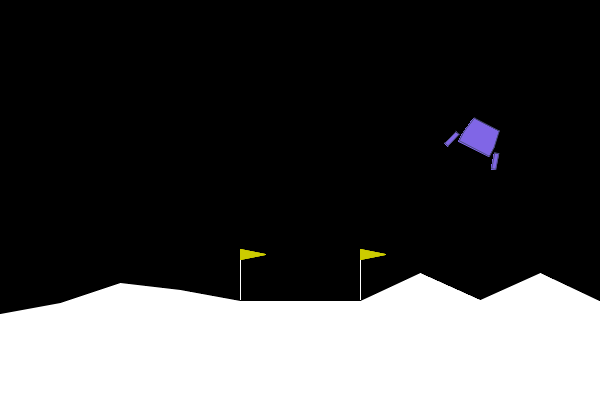lander: (442, 109, 514, 172)
